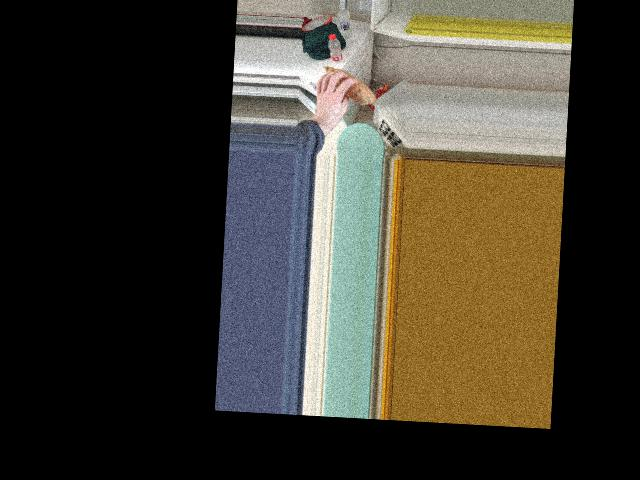sweet_potato: (319, 68, 375, 105)
